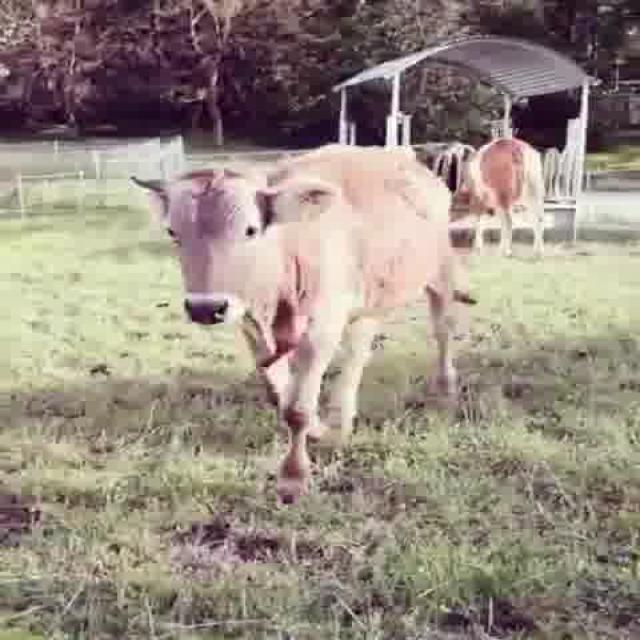cowFace: (124, 161, 339, 326)
